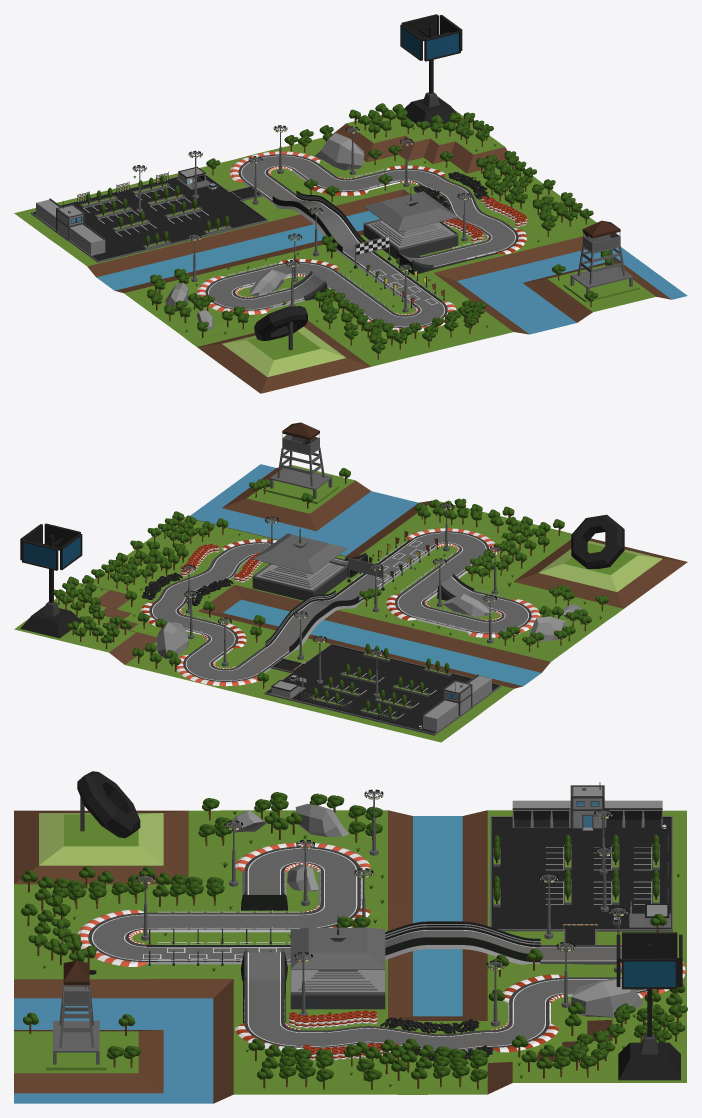
The model's file is road-transformed.glb.
3 renders of one model, top to bottom at view 1: azimuth 30°, elevation 25°; view 2: azimuth 150°, elevation 25°; view 3: azimuth 270°, elevation 25°, orthographic. The views are drawn at different scales.
Visible parts, largest first — view 1: Object_424; view 2: Object_424; view 3: Object_424, Object_460.
Boxes of the visible parts, bbox=[...] form: Object_424: bbox=[14, 14, 687, 393]; Object_424: bbox=[14, 422, 687, 742]; Object_424: bbox=[14, 771, 687, 1103]; Object_460: bbox=[143, 942, 290, 1021].
Size of the model in its own units: 44.75 by 10.66 by 44.81.
4 materials, 3 textured.
